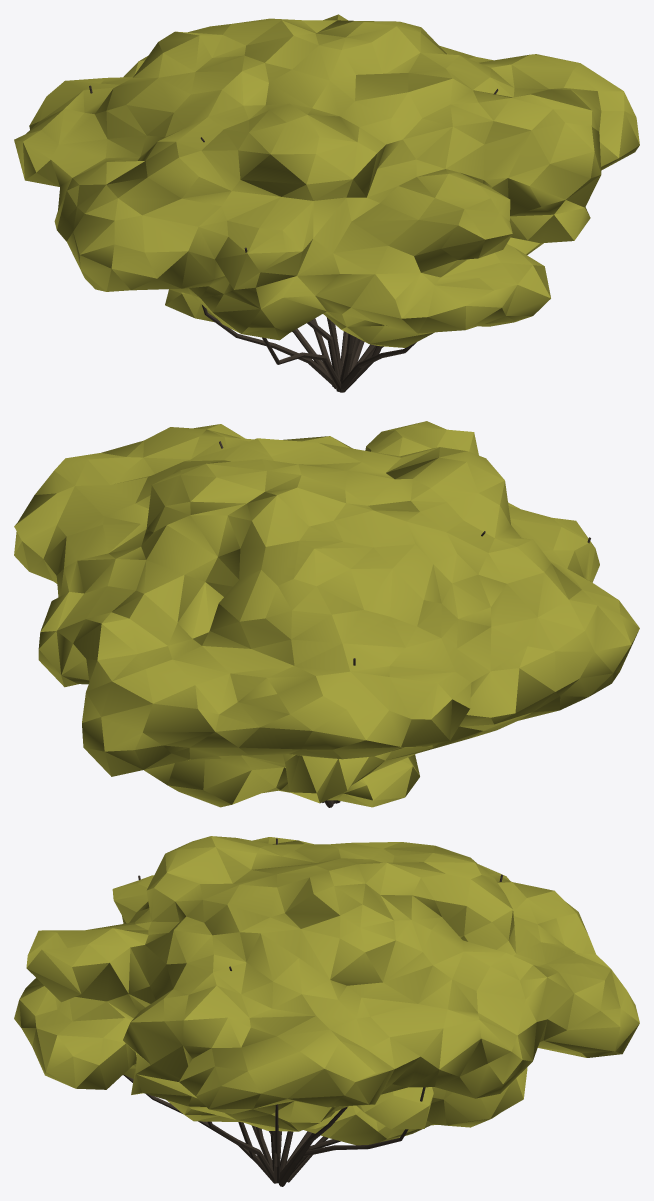
File: NNtree_witch.fbx
3 views of the same model, one above another, from view 1: azimuth 30°, elevation 25°; view 2: azimuth 150°, elevation 25°; view 3: azimuth 270°, elevation 25° (orthographic). The views are drawn at different scales.
Parts seen in each view (by area): view 1: sweep20; view 2: sweep20; view 3: sweep20.
Part boxes in pixels (x1,y1,x2,y2): sweep20: (14, 14, 639, 392); sweep20: (14, 421, 639, 807); sweep20: (14, 836, 639, 1186).
Bounding box in the file's own units: 28.57 × 16.52 × 29.39.
